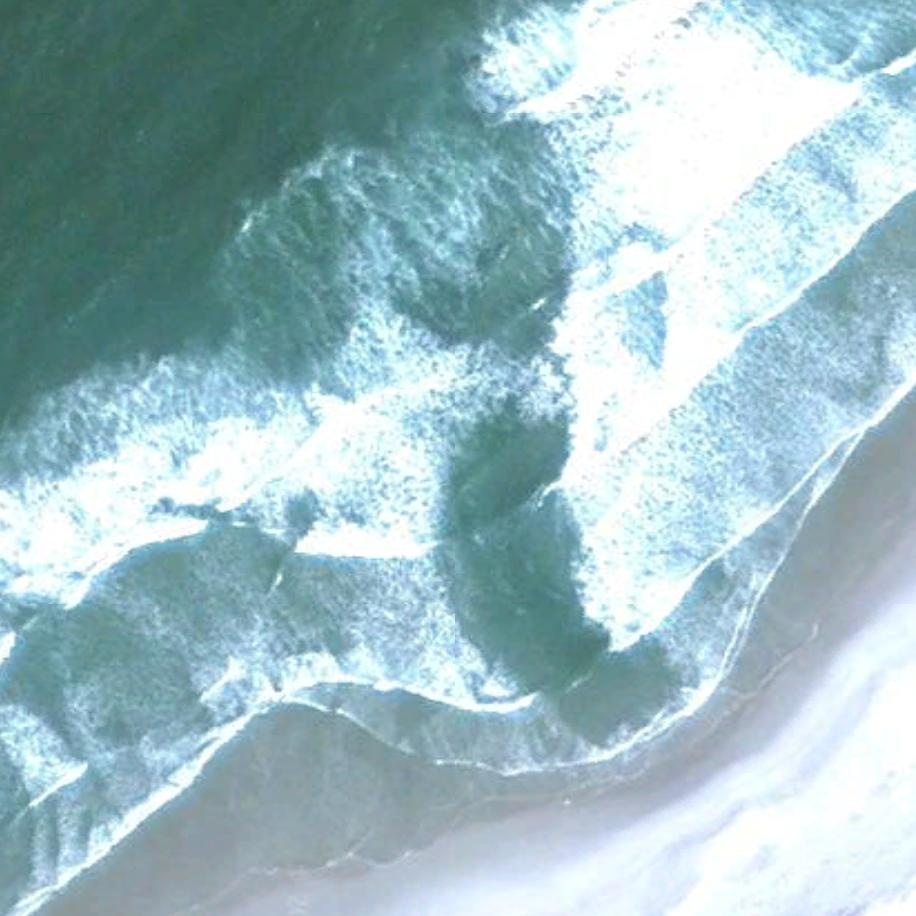rip_current: (316, 291, 718, 712)
